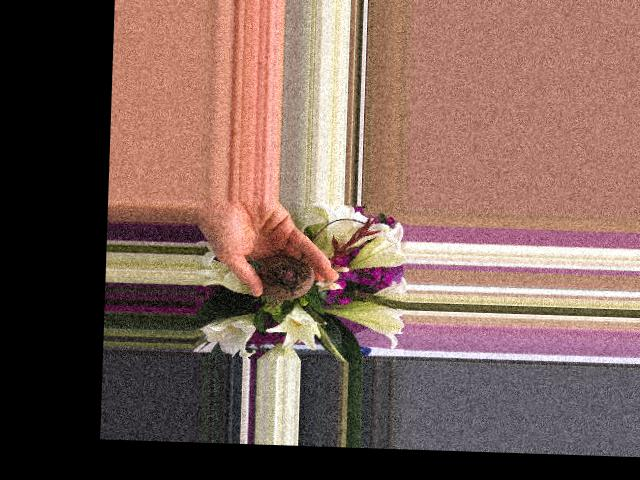beet: (258, 253, 316, 301)
